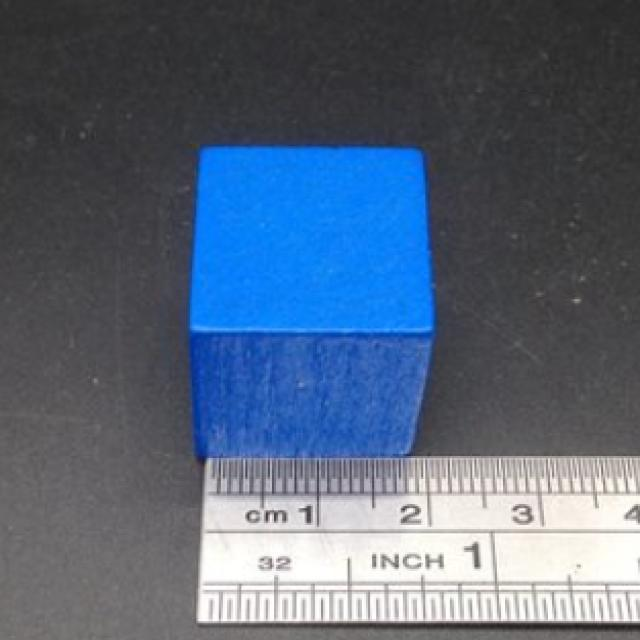bluecube: (188, 148, 438, 462)
